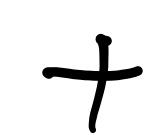plus: (42, 34, 144, 133)
